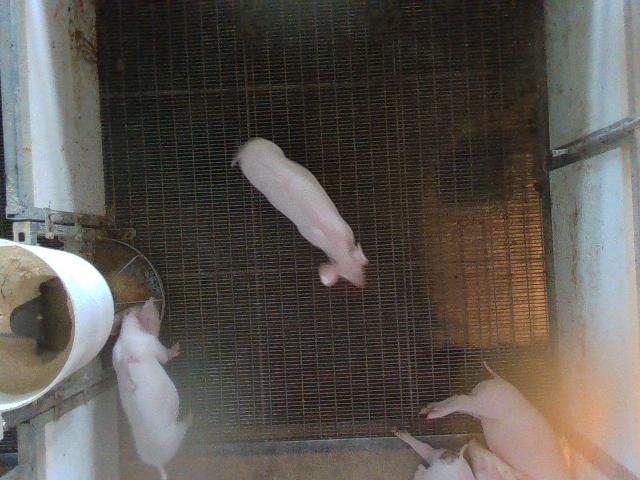pig-5: (112, 298, 191, 478)
